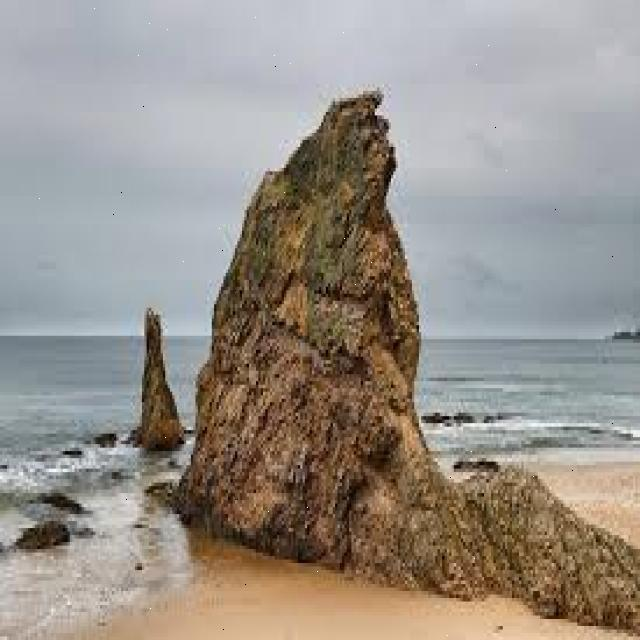Metamorphic: (184, 80, 640, 626)
